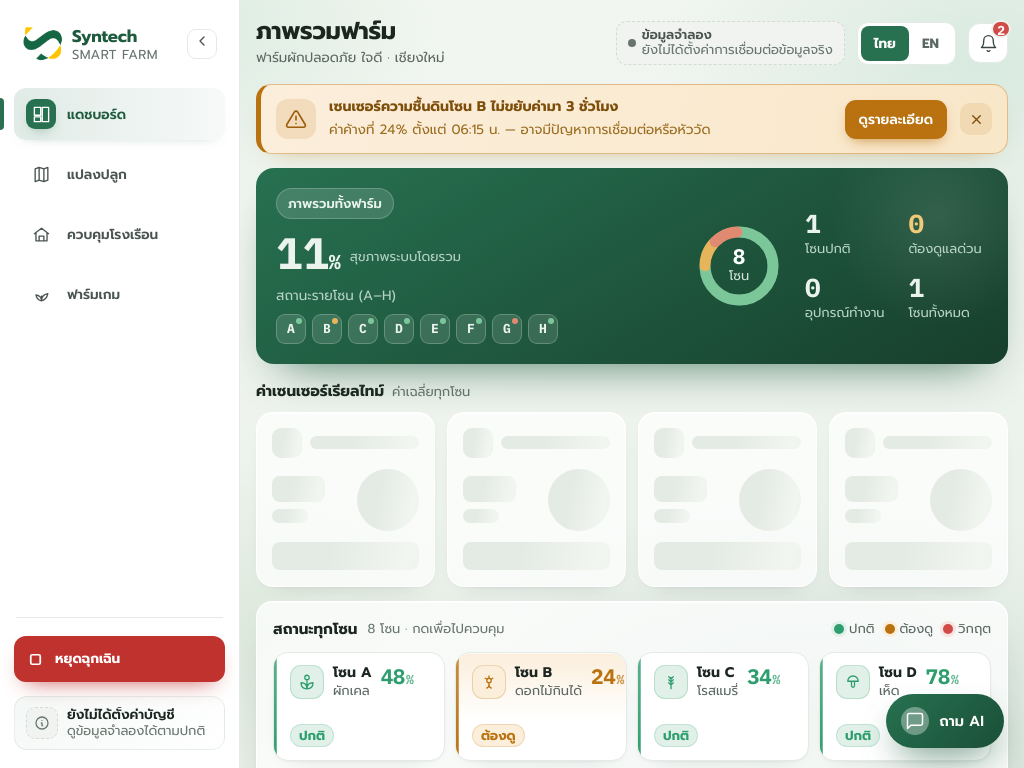
Test case: DashboardPage › การแจ้งเตือนเปิดดูได้
The image size is (1024, 768).
Click the button named "การแจ้งเตือน (2)": x=988, y=43 [968,23,1008,63]
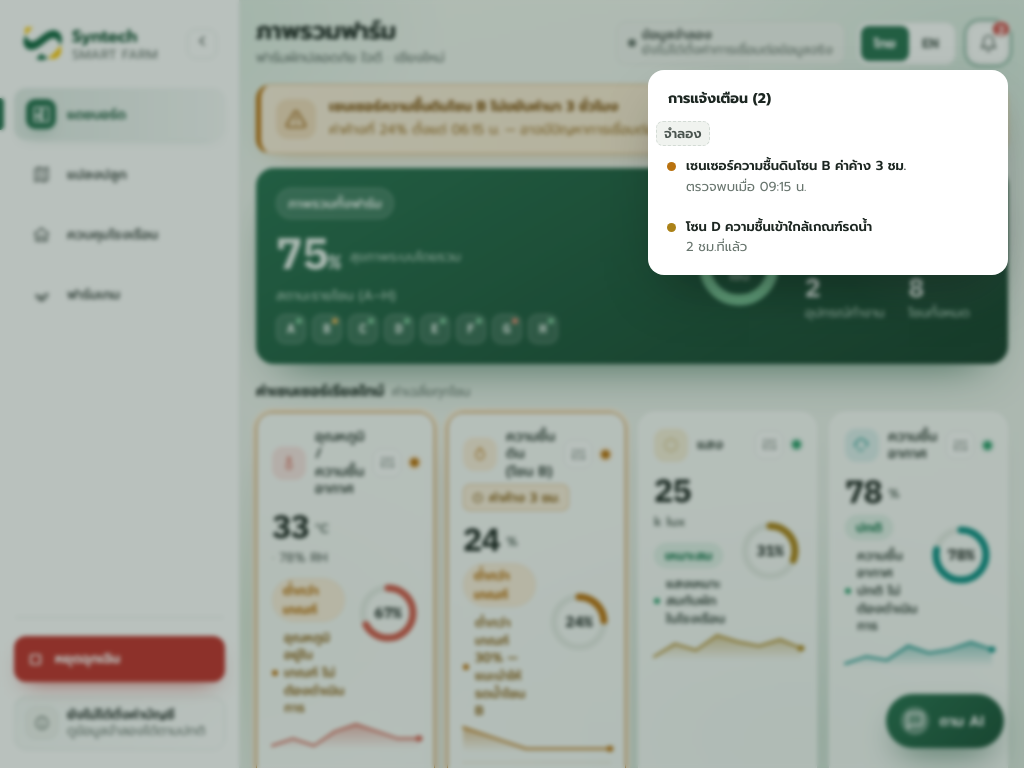
Now the text "เซนเซอร์ความชื้นดินโซน B ค่าค้าง 3 ชม." is shown, box [686,156,906,175]
Now the text "โซน D ความชื้นเข้าใกล้เกณฑ์รดน้ำ" is shown, box [686,216,872,236]
